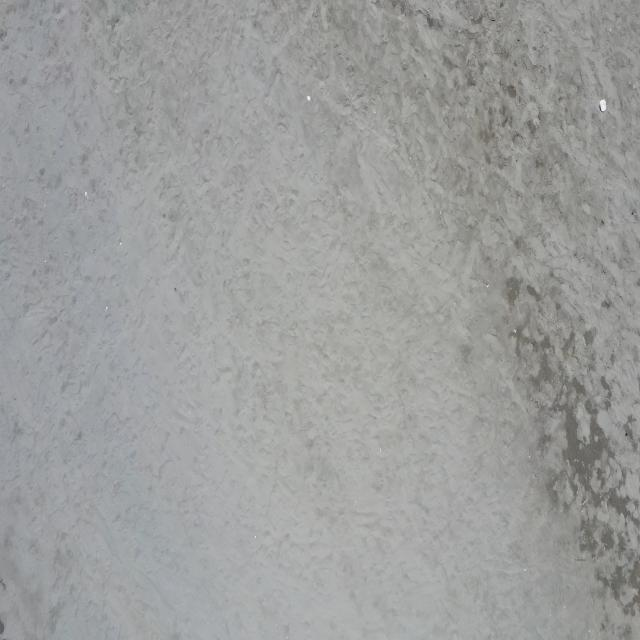take-away-containers: (598, 96, 608, 114)
